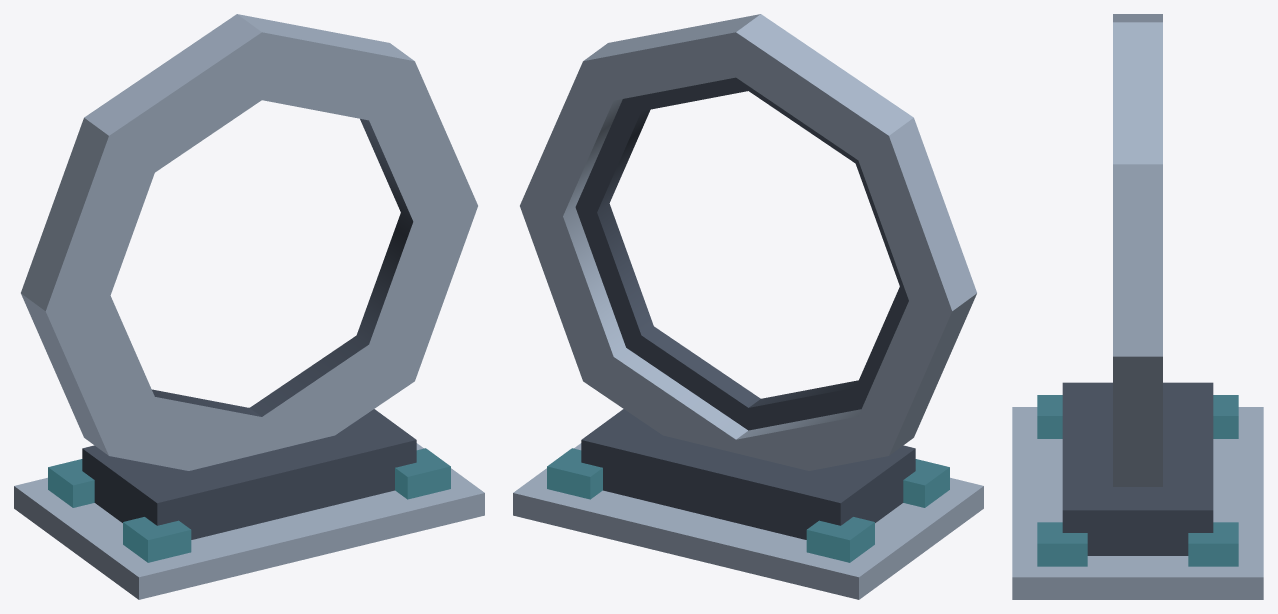
The model's file is gate_simple.glb.
The picture shows the model from 3 angles, left to right: view 1: azimuth 30°, elevation 25°; view 2: azimuth 150°, elevation 25°; view 3: azimuth 270°, elevation 25°; orthographic projection.
Parts seen in each view (by area): view 1: gate_simple; view 2: gate_simple; view 3: gate_simple.
Boxes of the visible parts, x1=… form: gate_simple: x1=14, y1=14, x2=484, y2=599; gate_simple: x1=513, y1=14, x2=983, y2=599; gate_simple: x1=1012, y1=14, x2=1263, y2=599.
Bounding box in the file's own units: 1 × 1.08 × 0.5.
